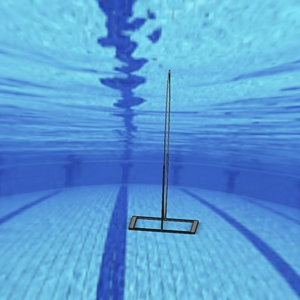circle: (127, 67, 200, 235)
